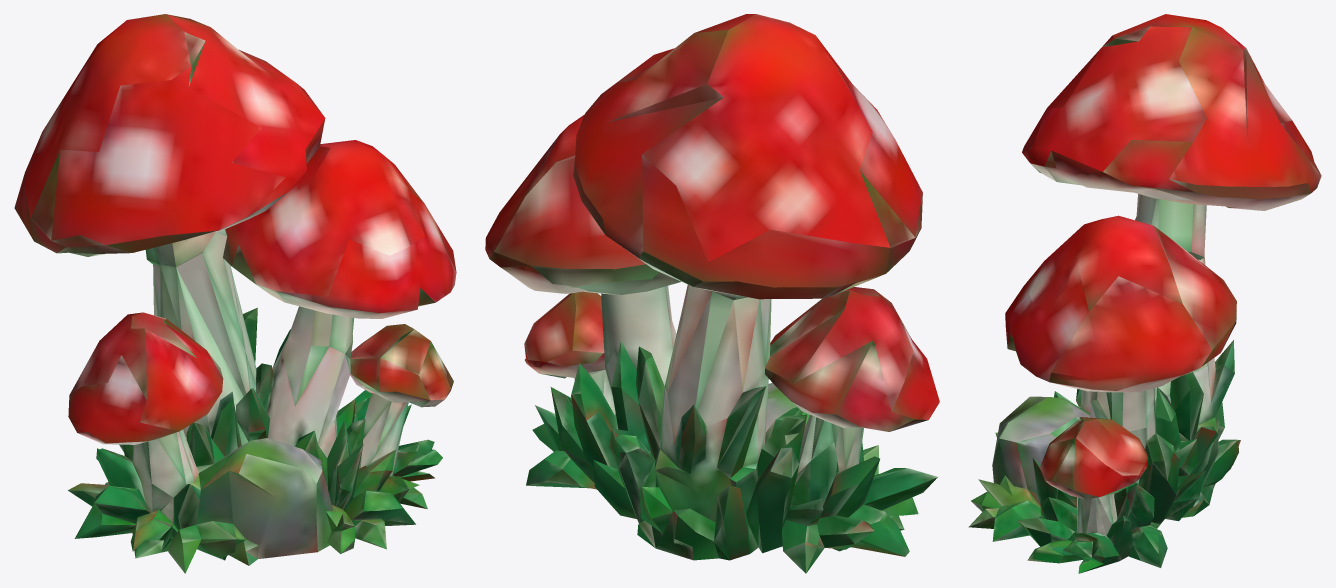
The model's file is red-mushrooms.glb.
The picture shows the model from 3 angles, left to right: view 1: azimuth 30°, elevation 25°; view 2: azimuth 150°, elevation 25°; view 3: azimuth 270°, elevation 25°; orthographic projection. The views are drawn at different scales.
Visible parts, largest first — view 1: output_unwrapped; view 2: output_unwrapped; view 3: output_unwrapped.
Part boxes in pixels (x1,y1,x2,y2): output_unwrapped: (14, 14, 456, 573); output_unwrapped: (485, 14, 939, 573); output_unwrapped: (968, 14, 1321, 573).
Bounding box in the file's own units: 1.58 × 1.9 × 1.35.
Materials: 1 (1 with a texture image).
